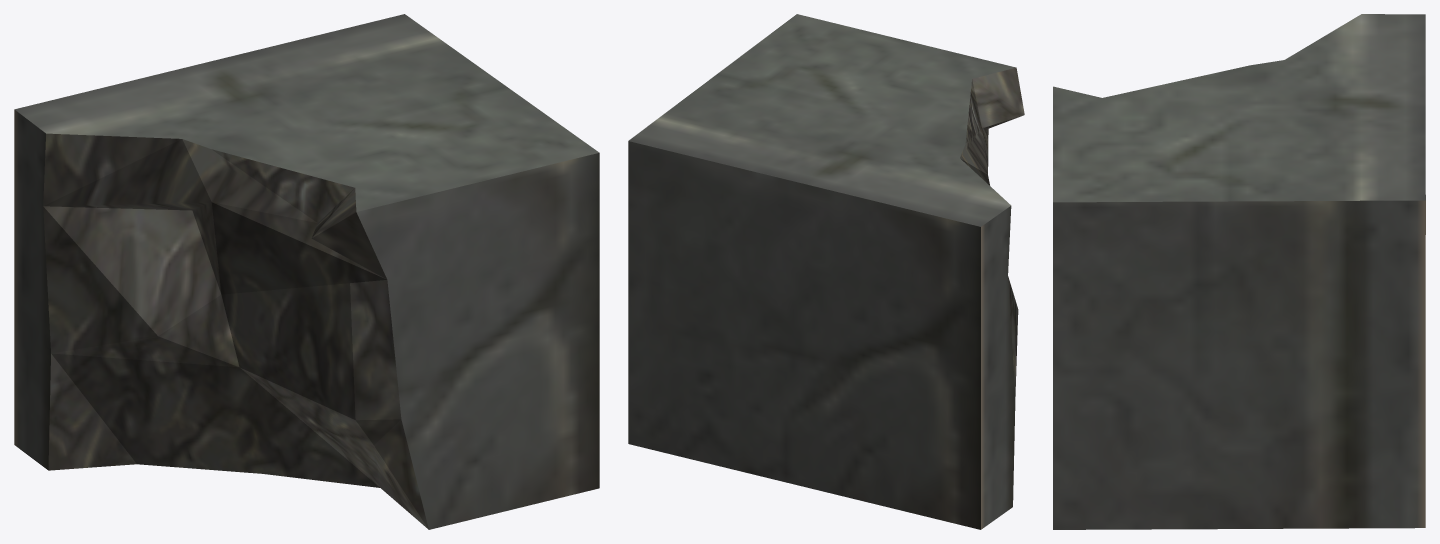
The model's file is F_shizhu001.fbx.
3 renders of one model, left to right at view 1: azimuth 30°, elevation 25°; view 2: azimuth 150°, elevation 25°; view 3: azimuth 270°, elevation 25°, orthographic. The views are drawn at different scales.
Visible parts, largest first — view 1: F_shizhu001; view 2: F_shizhu001; view 3: F_shizhu001.
Boxes of the visible parts, x1,y1,x2,y2 form: F_shizhu001: [14, 14, 599, 529]; F_shizhu001: [628, 14, 1024, 529]; F_shizhu001: [1053, 14, 1425, 529].
Size of the model in its own units: 72.28 by 58.62 by 60.43.
